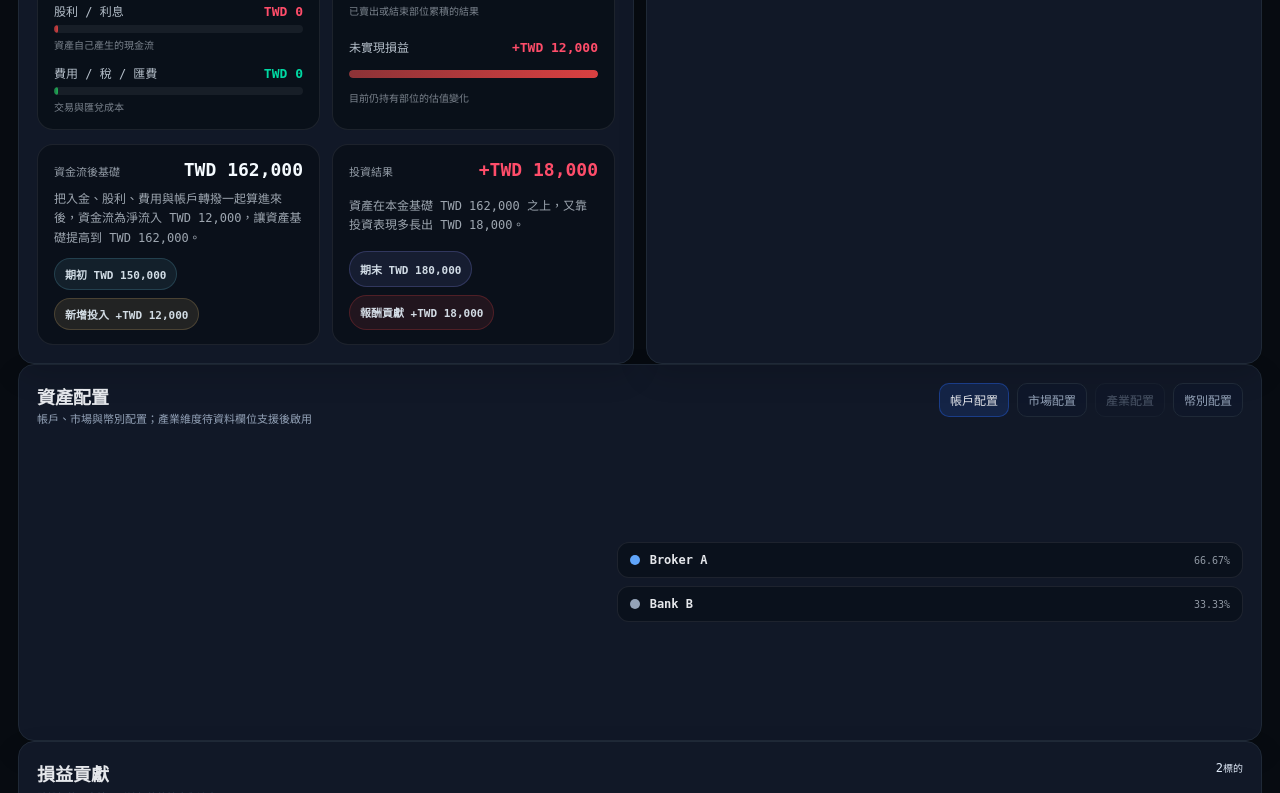
Test: AssetOverviewPanel › uses currency allocation metadata for allocation helper text
(page scrolled)
Click the button with test id "asset-allocation-tab-currency" at (1208, 400), box left=1173, top=383, right=1243, bottom=417
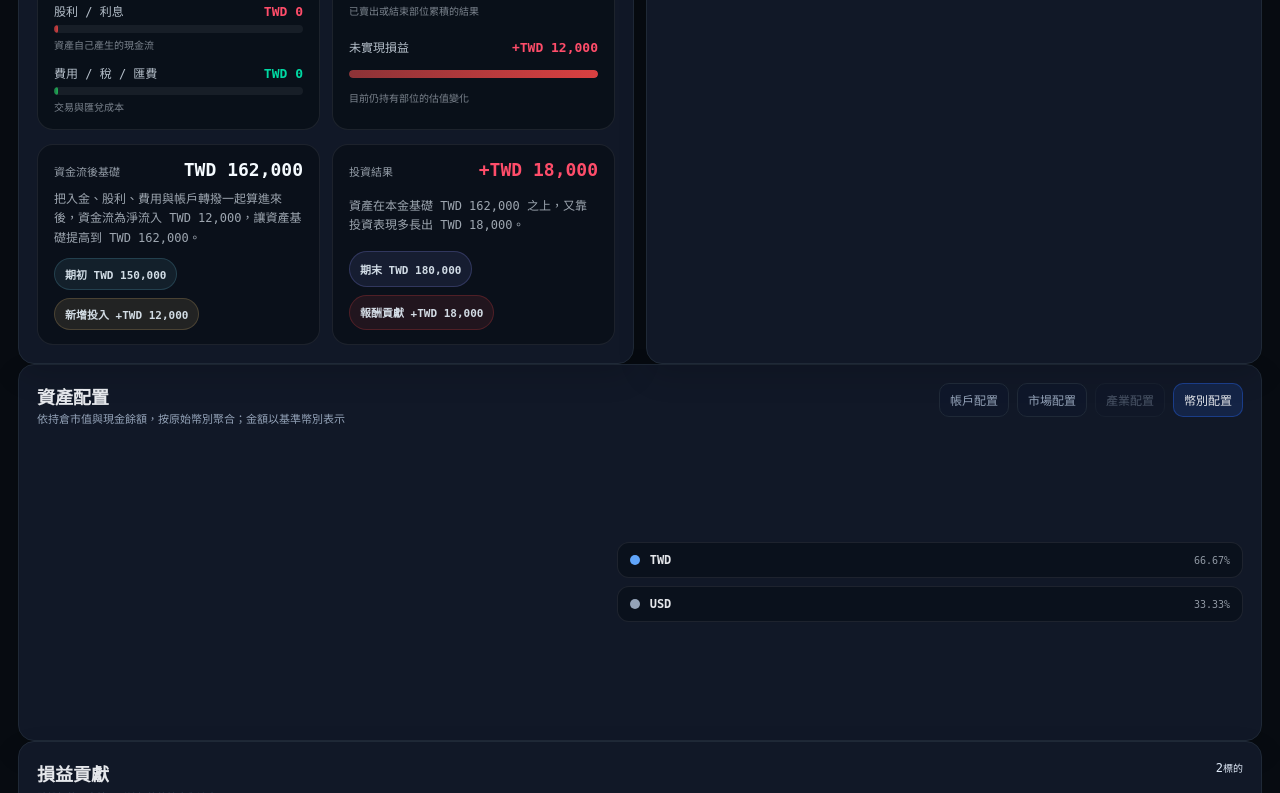
Expected: the text with class "bt-trade-sub" shows "依持倉市值與現金餘額，按原始幣別聚合", left=37, top=413, right=345, bottom=426
Expected: the text with class "bt-trade-sub" shows "金額以基準幣別表示", left=37, top=413, right=345, bottom=426
